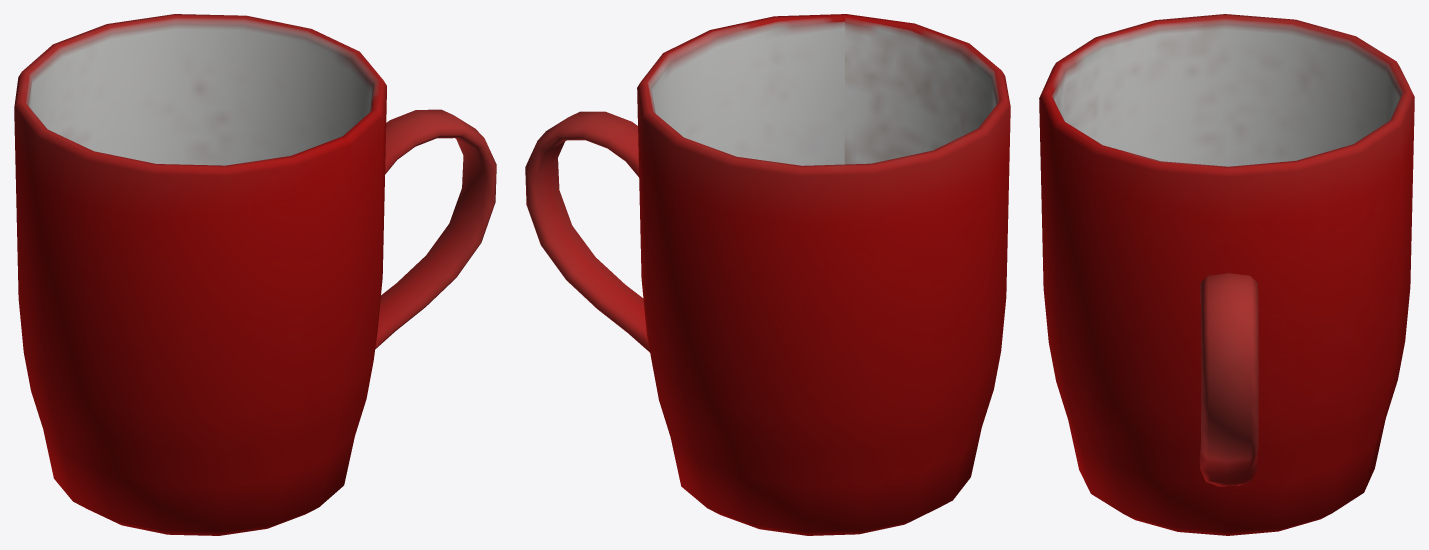
Rendered from Prop_Cup_02.fbx.
The picture shows the model from 3 angles, left to right: view 1: azimuth 30°, elevation 25°; view 2: azimuth 150°, elevation 25°; view 3: azimuth 270°, elevation 25°; orthographic projection.
Visible parts, largest first — view 1: Prop_Cup_02; view 2: Prop_Cup_02; view 3: Prop_Cup_02.
Boxes of the visible parts, x1=… form: Prop_Cup_02: x1=14, y1=14, x2=496, y2=535; Prop_Cup_02: x1=525, y1=14, x2=1010, y2=535; Prop_Cup_02: x1=1039, y1=14, x2=1414, y2=535.
Bounding box in the file's own units: 5.65 × 4.65 × 4.07.
